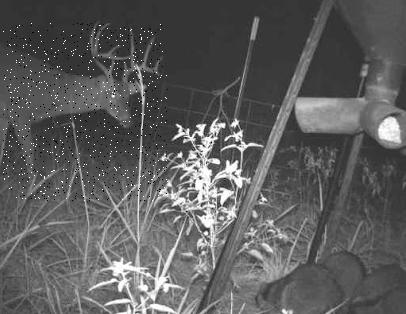Deer: (3, 23, 168, 201)
